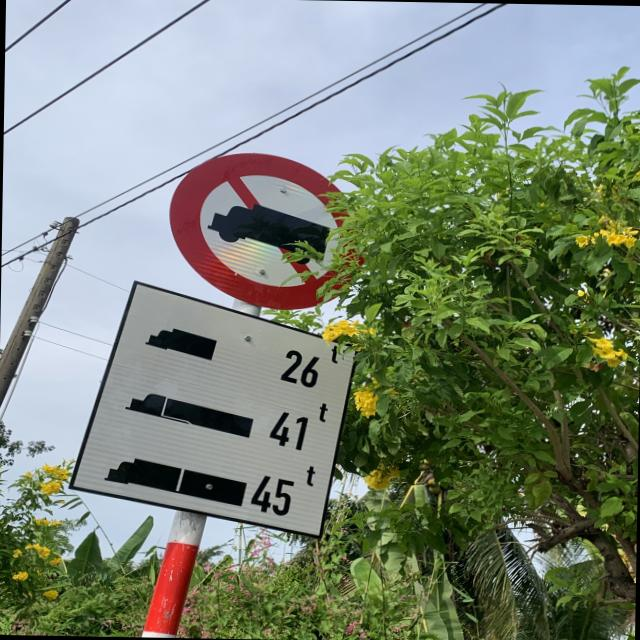Cam_Xe_Tai: (162, 148, 364, 312)
